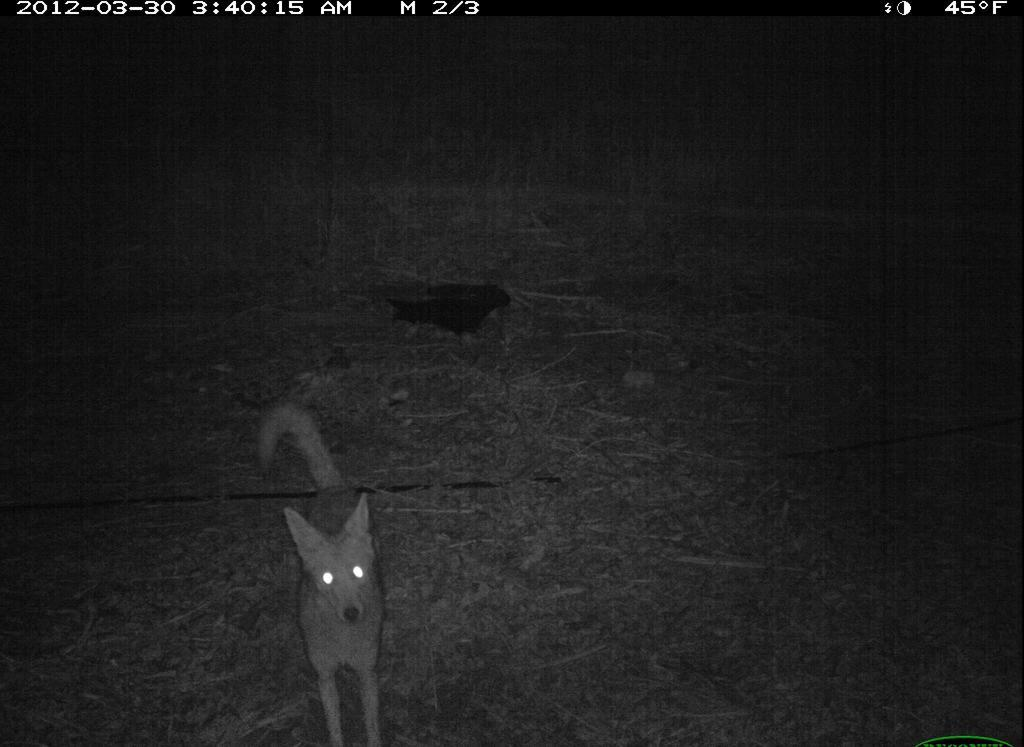coyote: (242, 390, 408, 747)
